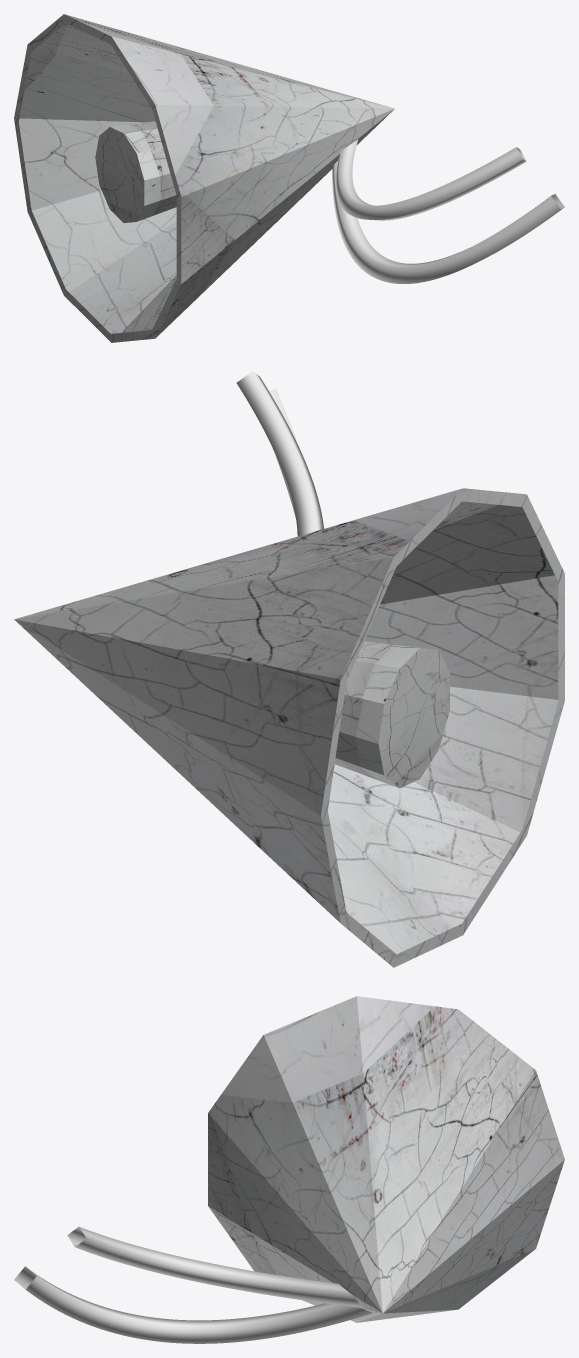
The model's file is Speaker.fbx.
3 views of the same model, one above another, from view 1: azimuth 30°, elevation 25°; view 2: azimuth 150°, elevation 25°; view 3: azimuth 270°, elevation 25° (orthographic). The views are drawn at different scales.
Parts seen in each view (by area): view 1: Cone, Catenary.002, Catenary.001; view 2: Cone, Catenary.001; view 3: Cone, Catenary.002, Catenary.001.
Part boxes in pixels (x1,y1,x2,y2): Cone: (14, 14, 394, 342); Catenary.002: (331, 161, 564, 283); Catenary.001: (335, 139, 526, 220); Cone: (14, 488, 564, 967); Catenary.001: (236, 371, 323, 536); Cone: (208, 996, 564, 1322); Catenary.002: (14, 1266, 372, 1343); Catenary.001: (67, 1226, 362, 1307).
Size of the model in its own units: 195 by 192 by 293.
